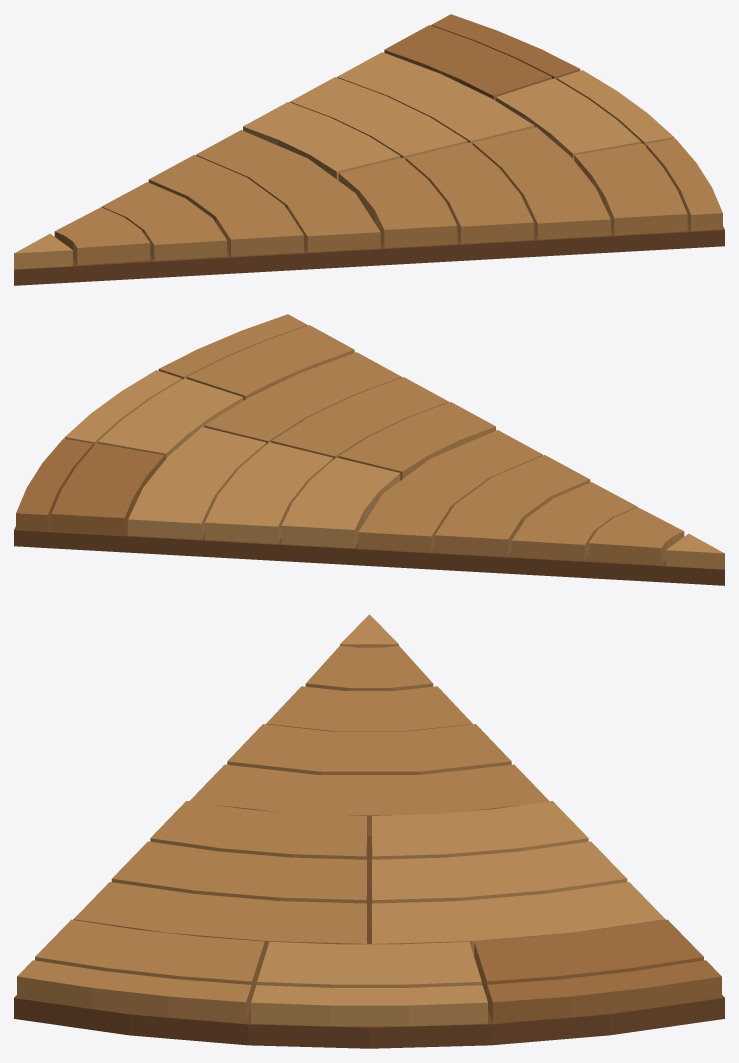
Rendered from mod_floor_sector_r2.41_45.glb.
3 renders of one model, top to bottom at view 1: azimuth 30°, elevation 25°; view 2: azimuth 150°, elevation 25°; view 3: azimuth 270°, elevation 25°, orthographic. The views are drawn at different scales.
Parts seen in each view (by area): view 1: mod_floor_sector_r2.41_45; view 2: mod_floor_sector_r2.41_45; view 3: mod_floor_sector_r2.41_45.
Boxes of the visible parts, <box> form: mod_floor_sector_r2.41_45: <box>14,14,724,285</box>; mod_floor_sector_r2.41_45: <box>14,314,724,585</box>; mod_floor_sector_r2.41_45: <box>14,614,724,1048</box>.
Size of the model in its own units: 2.41 by 0.128 by 1.84.
